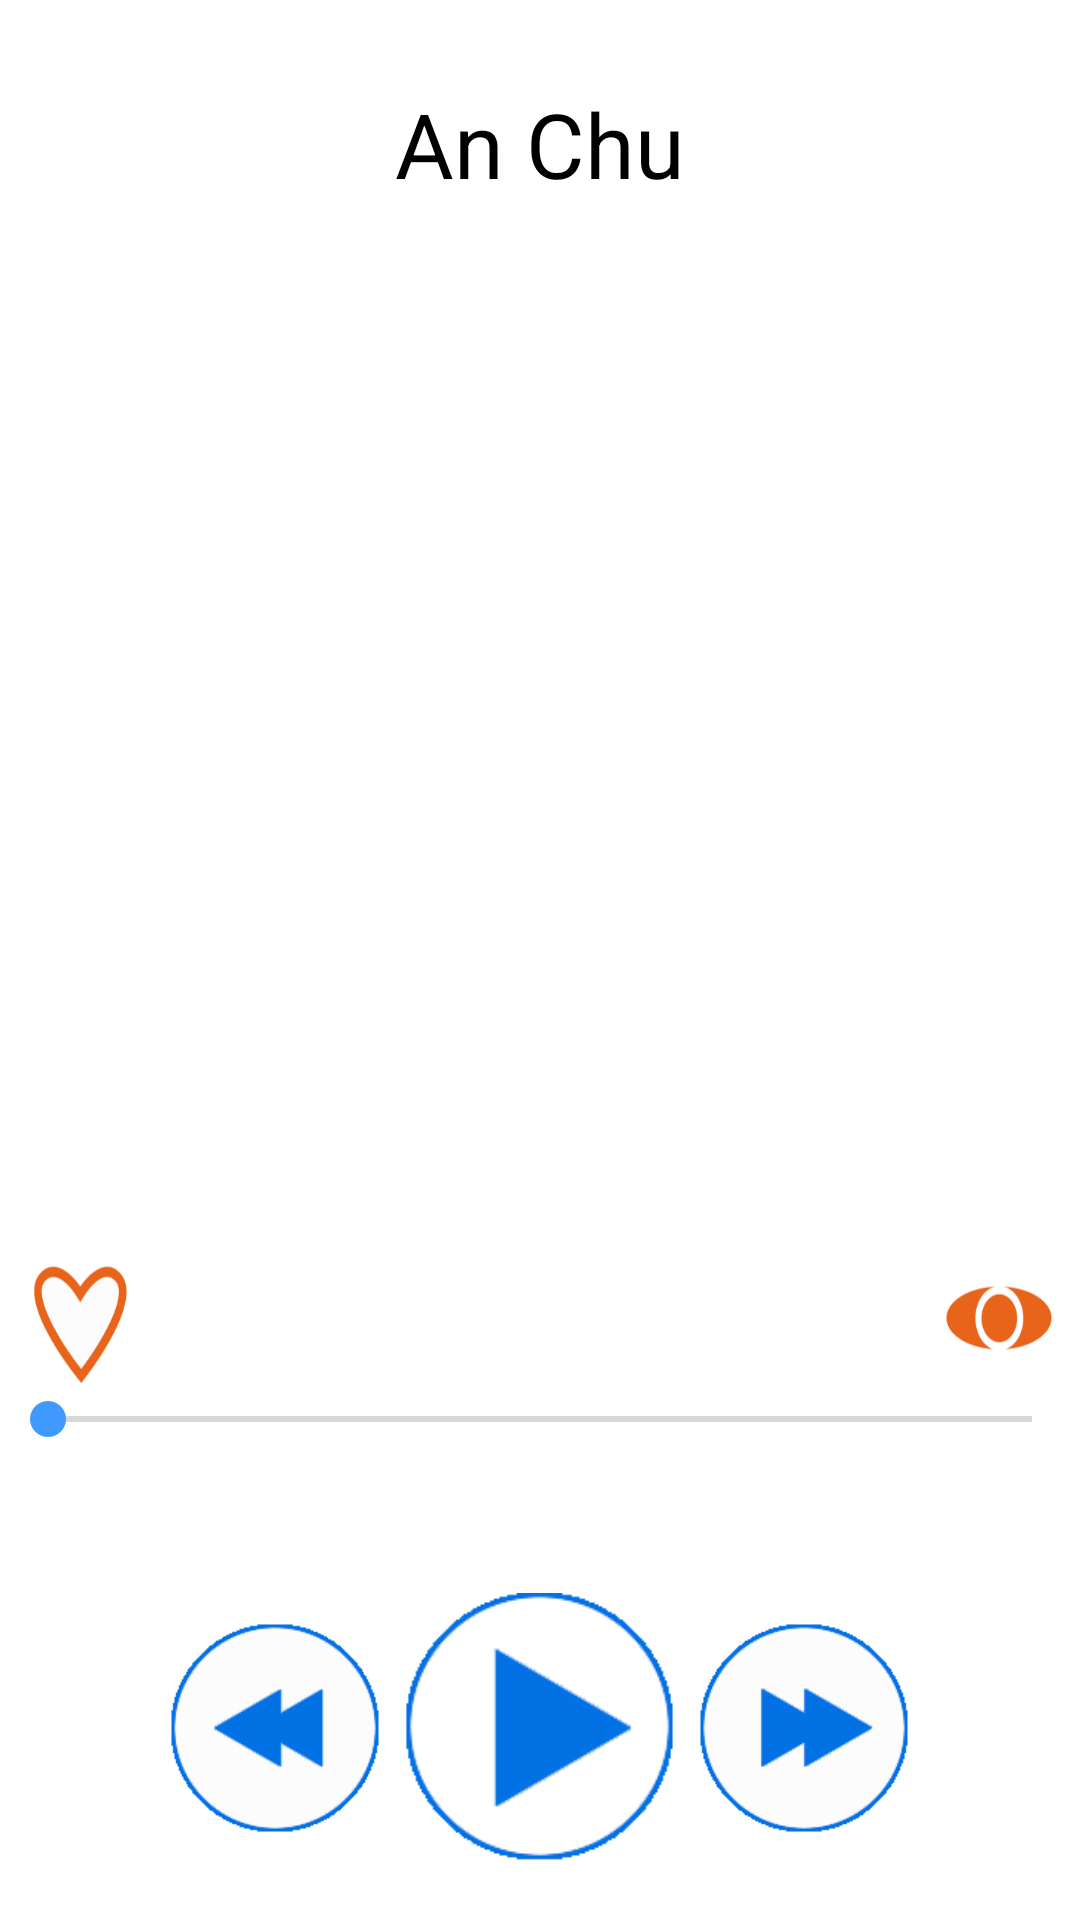

Screen size 1080w x 1920h. Icon name, then its center in pixels as point (x, y):
next: point (804, 1728)
play: point (539, 1726)
prev: point (275, 1728)
